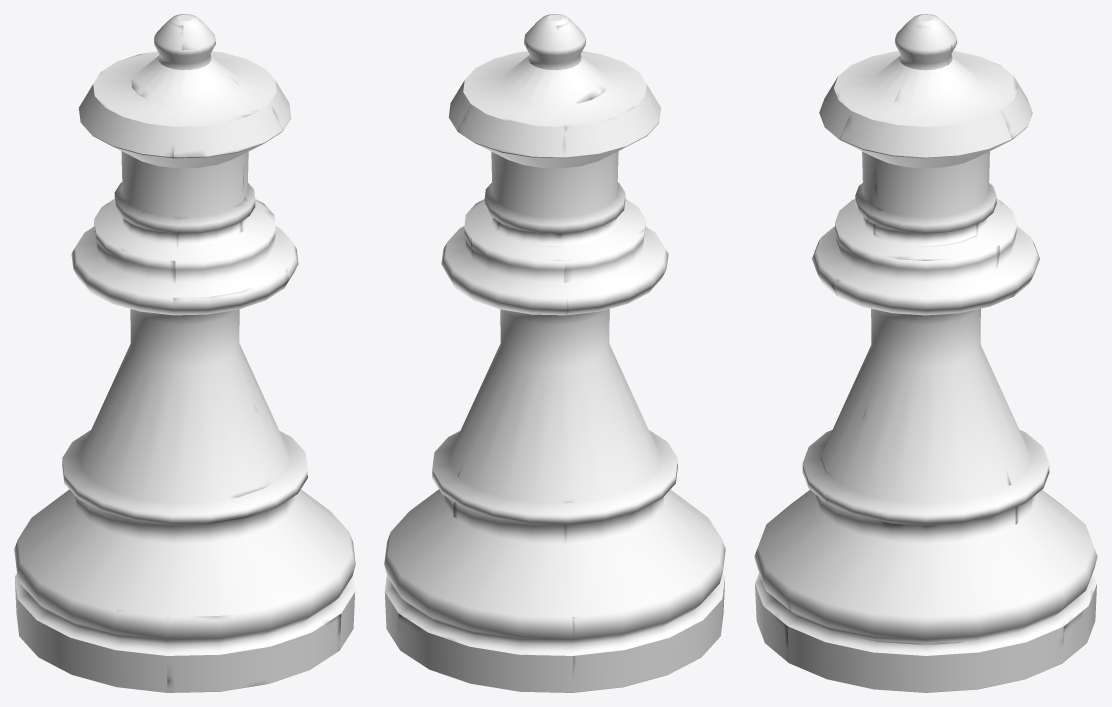
Rendered from Queen_White.fbx.
3 renders of one model, left to right at view 1: azimuth 30°, elevation 25°; view 2: azimuth 150°, elevation 25°; view 3: azimuth 270°, elevation 25°, orthographic.
Visible parts, largest first — view 1: rani1.001; view 2: rani1.001; view 3: rani1.001.
Part boxes in pixels (x1,y1,x2,y2): rani1.001: (14,14,355,692); rani1.001: (384,14,725,692); rani1.001: (754,14,1097,692).
Bounding box in the file's own units: 2.4 × 4.66 × 2.4.
